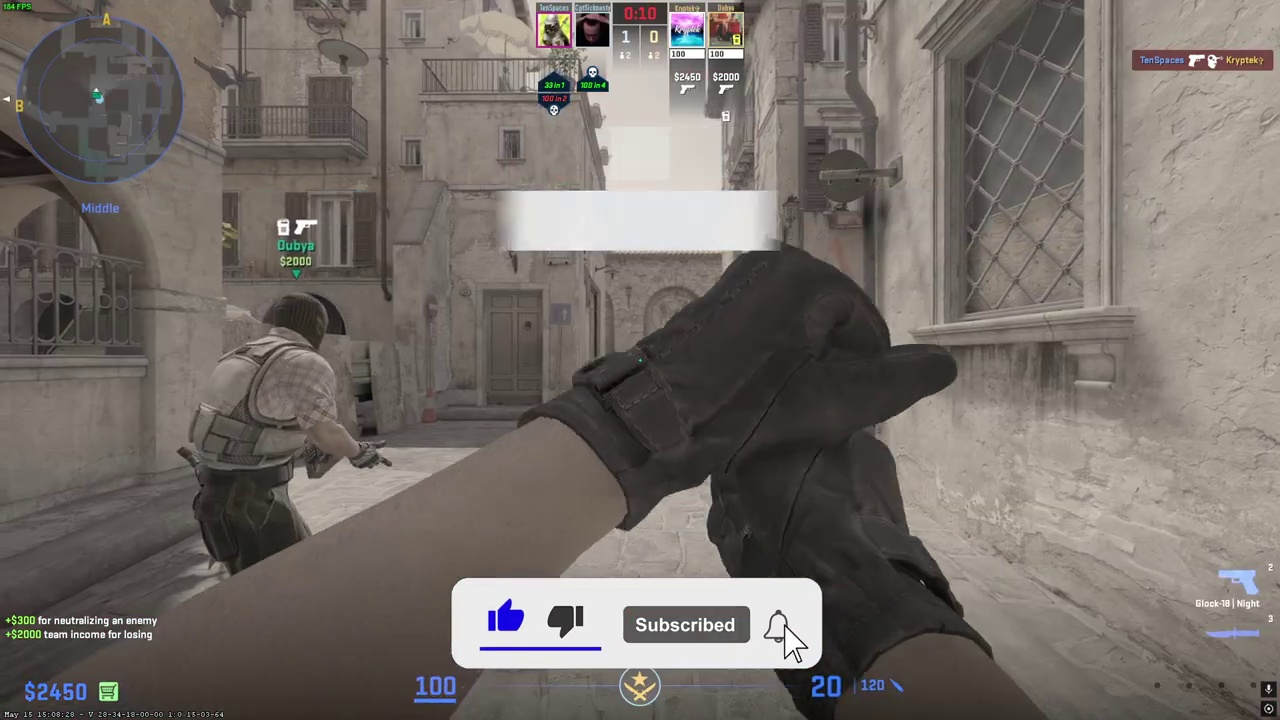Terrorist: (187, 293, 337, 575)
